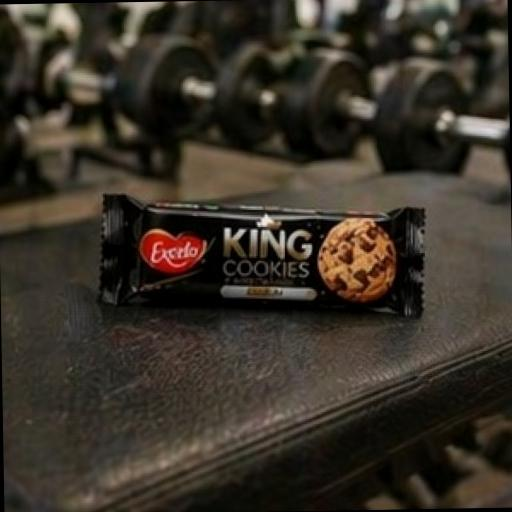king-cooking: (73, 128, 481, 377)
